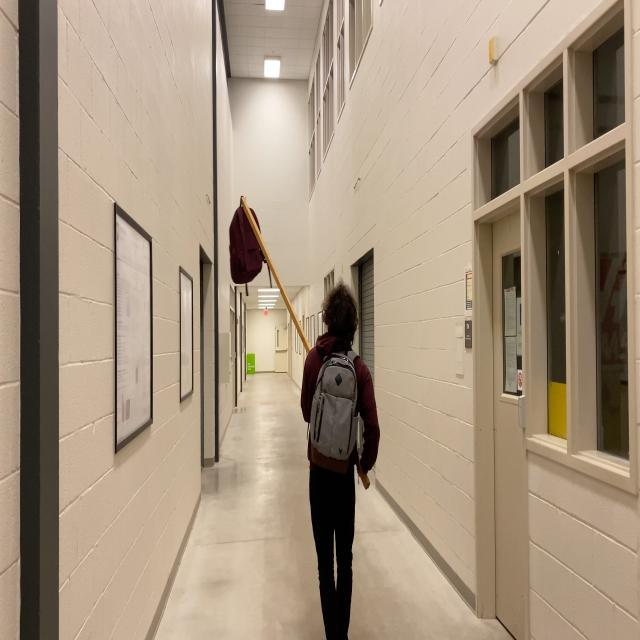Backpacks: (313, 344, 360, 468), (226, 198, 264, 284)
